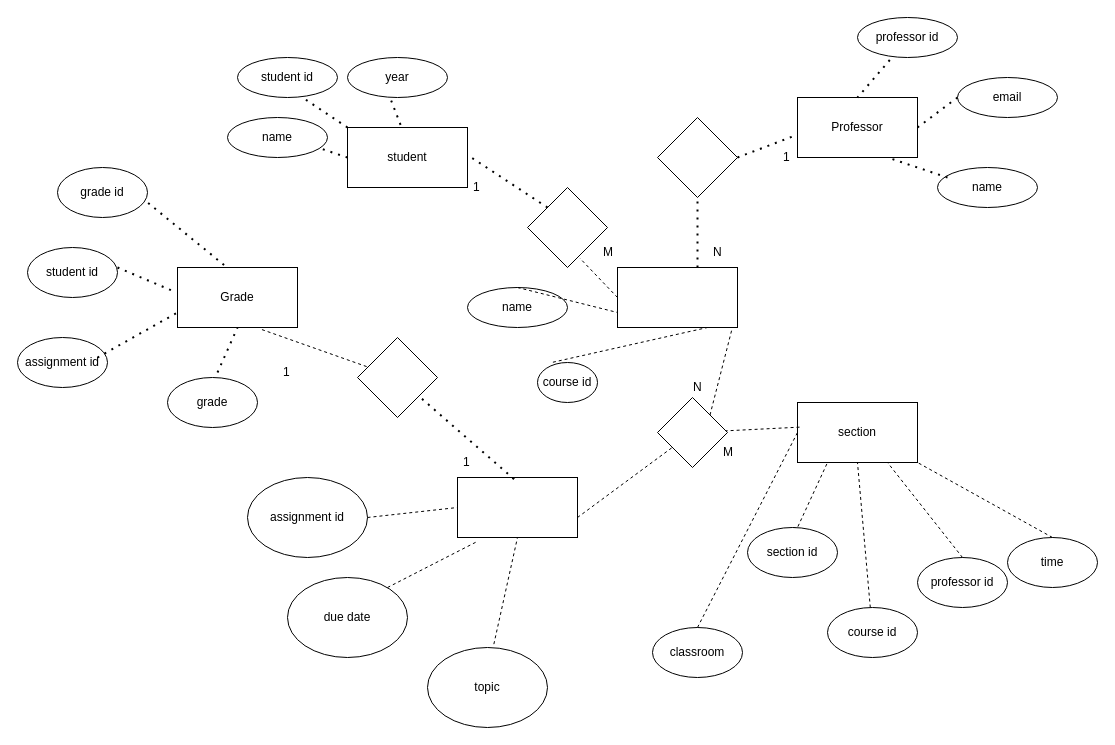
The diagram is 1115 pixels wide and 745 high, and some of its shapes have lost their labels. Here are the shapes that lost their labels. From the top down, the centre of each, then its label:
pixel 697 157: teaches
pixel 567 227: takes
pixel 677 297: course
pixel 397 377: gives
pixel 692 432: has
pixel 517 507: Assignment
